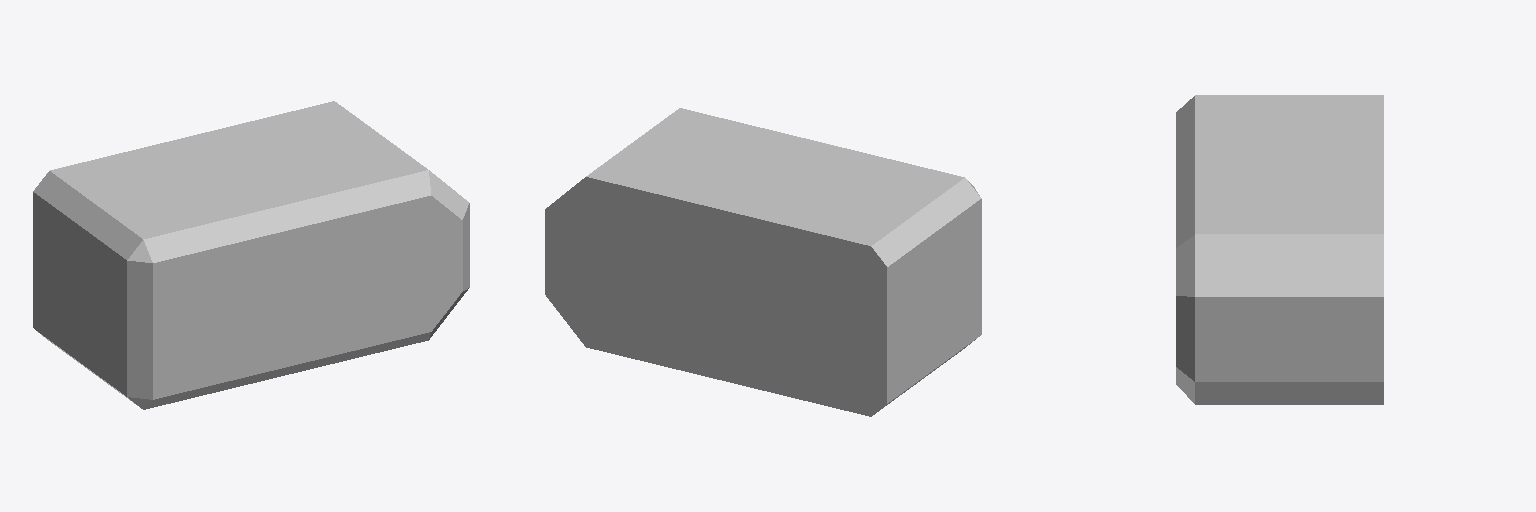
The model's file is Spacestation_Structure_Wing_Thick_Large_Straight.obj.
3 renders of one model, left to right at view 1: azimuth 30°, elevation 25°; view 2: azimuth 150°, elevation 25°; view 3: azimuth 270°, elevation 25°, orthographic.
Parts seen in each view (by area): view 1: object1; view 2: object1; view 3: object1.
Part boxes in pixels (x1,y1,x2,y2): object1: (33, 101, 469, 409); object1: (545, 108, 981, 416); object1: (1176, 95, 1383, 404).
Size of the model in its own units: 2.1 by 1 by 1.1.